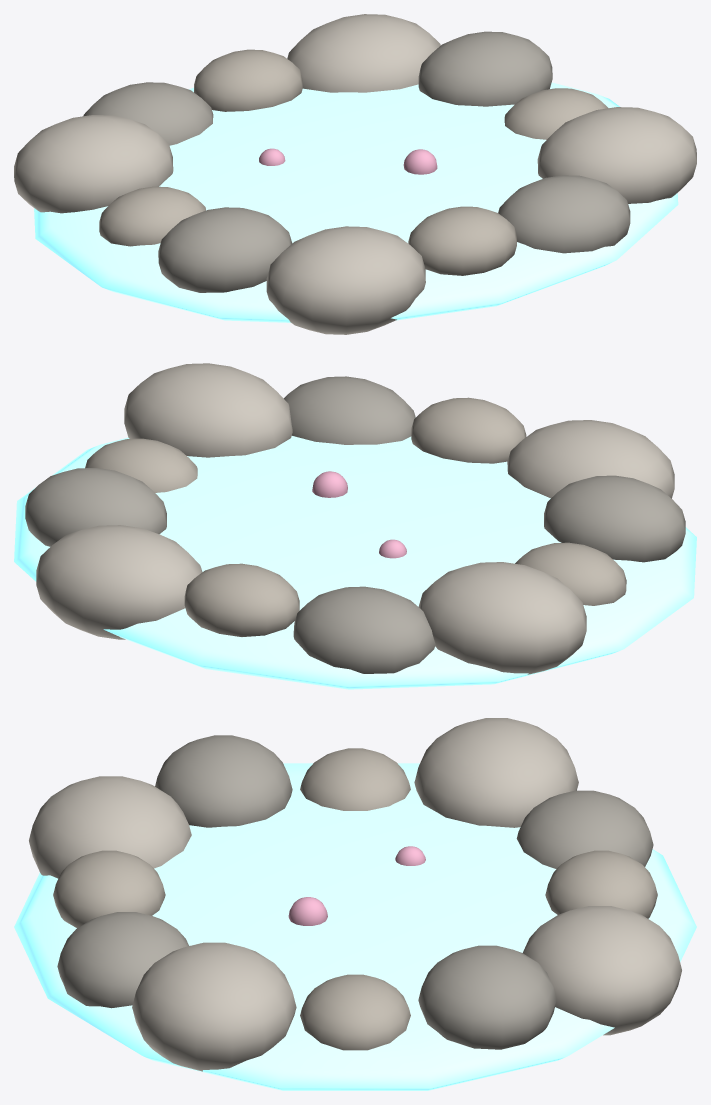
Rendered from cozy_pond_small_A.glb.
3 views of the same model, one above another, from view 1: azimuth 30°, elevation 25°; view 2: azimuth 150°, elevation 25°; view 3: azimuth 270°, elevation 25° (orthographic). The views are drawn at different scales.
Visible parts, largest first — view 1: Water, Rock8, Rock5, Rock11, Rock2, Rock7, Rock1, Rock10, Rock9, Rock3, Rock4, Rock6 (+2 smaller); view 2: Water, Rock5, Rock2, Rock11, Rock4, Rock7, Rock8, Rock1, Rock10, Rock3, Rock9, Rock6 (+2 smaller); view 3: Water, Rock11, Rock2, Rock5, Rock8, Rock1, Rock7, Rock10, Rock4, Rock0, Rock9, Rock3 (+2 smaller).
Part boxes in pixels (bbox=[...]): Water: bbox=[34, 82, 678, 322]; Rock8: bbox=[266, 226, 425, 334]; Rock5: bbox=[14, 115, 173, 213]; Rock11: bbox=[537, 107, 696, 203]; Rock2: bbox=[287, 14, 440, 92]; Rock7: bbox=[158, 207, 292, 292]; Rock1: bbox=[418, 31, 552, 106]; Rock10: bbox=[498, 175, 630, 253]; Rock9: bbox=[408, 206, 516, 275]; Rock3: bbox=[194, 49, 302, 111]; Rock4: bbox=[83, 82, 213, 145]; Rock6: bbox=[99, 186, 205, 246]; Water: bbox=[14, 436, 696, 689]; Rock5: bbox=[418, 562, 586, 674]; Rock2: bbox=[36, 525, 202, 639]; Rock11: bbox=[124, 363, 292, 457]; Rock4: bbox=[293, 586, 435, 673]; Rock7: bbox=[544, 475, 685, 562]; Rock8: bbox=[507, 420, 674, 498]; Rock1: bbox=[25, 468, 166, 546]; Rock10: bbox=[284, 376, 415, 444]; Rock3: bbox=[184, 563, 299, 636]; Rock9: bbox=[411, 397, 526, 463]; Rock6: bbox=[515, 542, 626, 605]; Water: bbox=[14, 763, 696, 1090]; Rock11: bbox=[132, 942, 296, 1071]; Rock2: bbox=[523, 906, 681, 1035]; Rock5: bbox=[414, 718, 578, 827]; Rock8: bbox=[29, 776, 191, 878]; Rock1: bbox=[418, 945, 556, 1049]; Rock7: bbox=[155, 735, 292, 827]; Rock10: bbox=[57, 912, 188, 1008]; Rock4: bbox=[516, 790, 653, 868]; Rock0: bbox=[300, 974, 410, 1050]; Rock9: bbox=[53, 850, 165, 928]; Rock3: bbox=[545, 850, 657, 918].
Size of the model in its own units: 1.93 by 0.3317 by 1.74.
